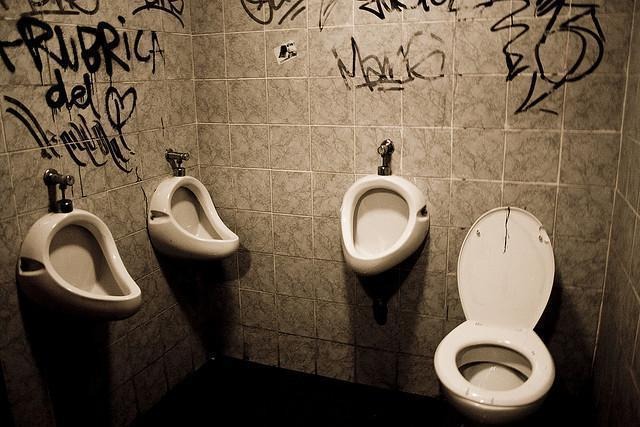Sanitario: (430, 201, 562, 421)
